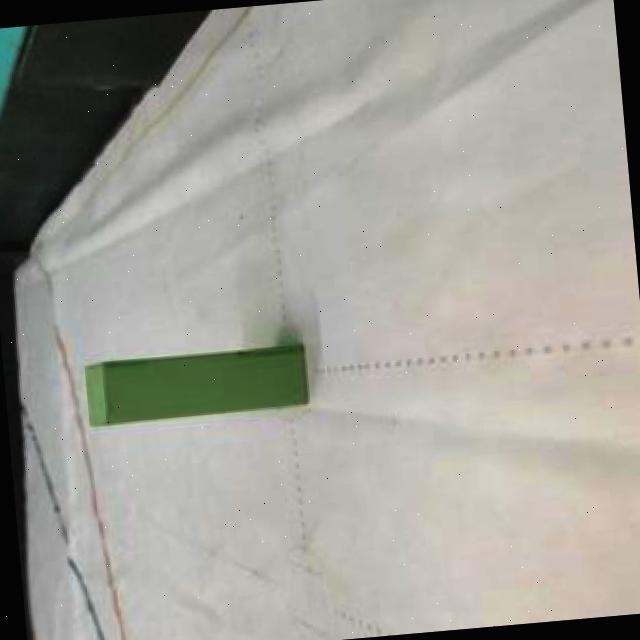greenbox: (79, 339, 309, 432)
